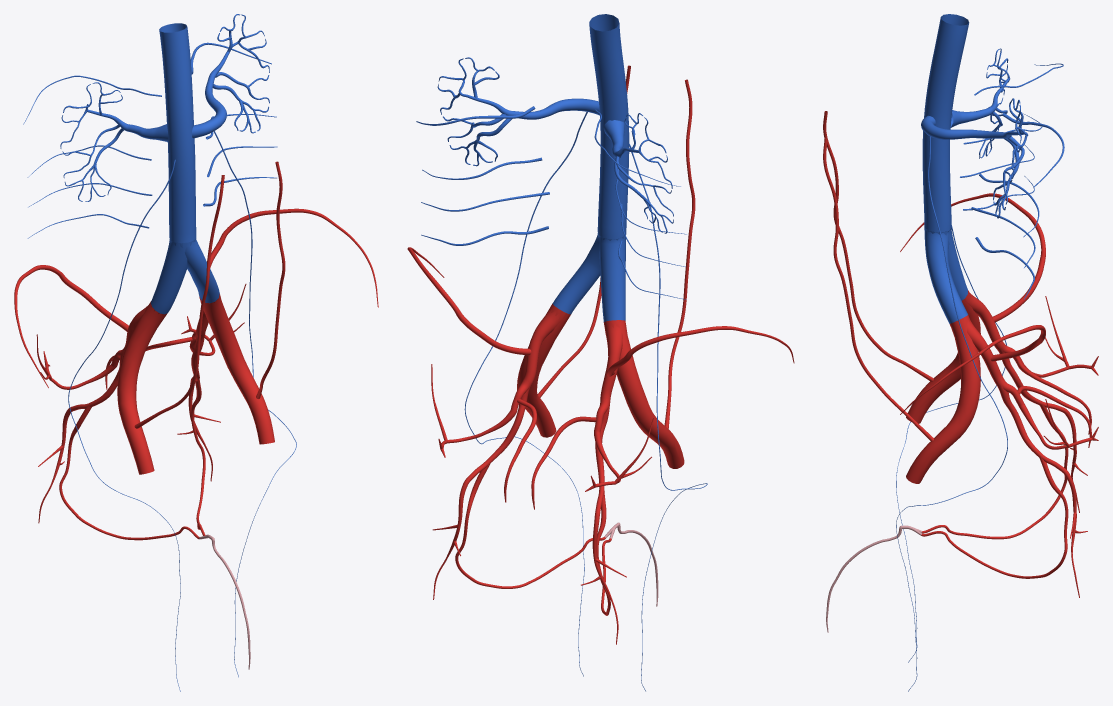
The model's file is circulatorio-inferior-vena-cava-abdominal-part.glb.
3 views of the same model, side by side, from view 1: azimuth 30°, elevation 25°; view 2: azimuth 150°, elevation 25°; view 3: azimuth 270°, elevation 25° (orthographic). The views are drawn at different scales.
Visible parts, largest first — view 1: Inferior vena cava (abdominal part), External iliac vein.r, External iliac vein.l, Common iliac vein.r, Intrarenal veins of left kidney, Intrarenal veins of right kidney, Common iliac vein.l, Inferior epigastric vein.r, Iliolumbar vein.r, Iliolumbar vein.l, Lumbar veins.r, Inferior epigastric vein.l (+9 smaller); view 2: Inferior vena cava (abdominal part), External iliac vein.r, Common iliac vein.r, Intrarenal veins of left kidney, External iliac vein.l, Common iliac vein.l, Inferior epigastric vein.r, Lumbar veins.l, Intrarenal veins of right kidney, Inferior gluteal veins.l, Inferior gluteal veins.r, Iliolumbar vein.l (+12 smaller); view 3: Inferior vena cava (abdominal part), External iliac vein.l, Common iliac vein.l, External iliac vein.r, Intrarenal veins of left kidney, Inferior epigastric vein.l, Inferior gluteal veins.l, Iliolumbar vein.r, Inferior epigastric vein.r, Lumbar veins.l, Internal pudendal vein.l, Iliolumbar vein.l (+15 smaller).
Boxes of the visible parts, x1=… form: Inferior vena cava (abdominal part): x1=159, y1=23, x2=196, y2=243; External iliac vein.r: x1=117, y1=301, x2=167, y2=474; External iliac vein.l: x1=199, y1=293, x2=274, y2=444; Common iliac vein.r: x1=151, y1=239, x2=195, y2=314; Intrarenal veins of left kidney: x1=205, y1=14, x2=269, y2=133; Intrarenal veins of right kidney: x1=60, y1=82, x2=135, y2=201; Common iliac vein.l: x1=170, y1=238, x2=219, y2=303; Inferior epigastric vein.r: x1=134, y1=175, x2=224, y2=428; Iliolumbar vein.r: x1=14, y1=265, x2=128, y2=387; Iliolumbar vein.l: x1=207, y1=208, x2=378, y2=307; Lumbar veins.r: x1=23, y1=75, x2=161, y2=238; Inferior epigastric vein.l: x1=256, y1=161, x2=285, y2=398; Inferior vena cava (abdominal part): x1=589, y1=14, x2=629, y2=239; External iliac vein.r: x1=604, y1=320, x2=684, y2=468; Common iliac vein.r: x1=597, y1=233, x2=625, y2=321; Intrarenal veins of left kidney: x1=437, y1=57, x2=542, y2=166; External iliac vein.l: x1=517, y1=304, x2=570, y2=437; Common iliac vein.l: x1=552, y1=234, x2=626, y2=314; Inferior epigastric vein.r: x1=664, y1=79, x2=695, y2=428; Lumbar veins.l: x1=416, y1=106, x2=549, y2=245; Intrarenal veins of right kidney: x1=612, y1=113, x2=673, y2=233; Inferior gluteal veins.l: x1=432, y1=379, x2=532, y2=599; Inferior gluteal veins.r: x1=581, y1=399, x2=626, y2=644; Iliolumbar vein.l: x1=407, y1=247, x2=531, y2=355; Inferior vena cava (abdominal part): x1=922, y1=14, x2=969, y2=232; External iliac vein.l: x1=906, y1=315, x2=980, y2=483; Common iliac vein.l: x1=924, y1=228, x2=968, y2=323; External iliac vein.r: x1=906, y1=290, x2=980, y2=423; Intrarenal veins of left kidney: x1=978, y1=98, x2=1028, y2=218; Inferior epigastric vein.l: x1=823, y1=138, x2=933, y2=441; Inferior gluteal veins.l: x1=996, y1=379, x2=1087, y2=597; Iliolumbar vein.r: x1=900, y1=193, x2=1045, y2=322; Inferior epigastric vein.r: x1=823, y1=111, x2=933, y2=381; Lumbar veins.l: x1=971, y1=113, x2=1064, y2=299; Internal pudendal vein.l: x1=921, y1=457, x2=1068, y2=578; Iliolumbar vein.l: x1=900, y1=325, x2=1045, y2=414.
Size of the model in its own units: 0.2498 by 0.4457 by 0.1705.
